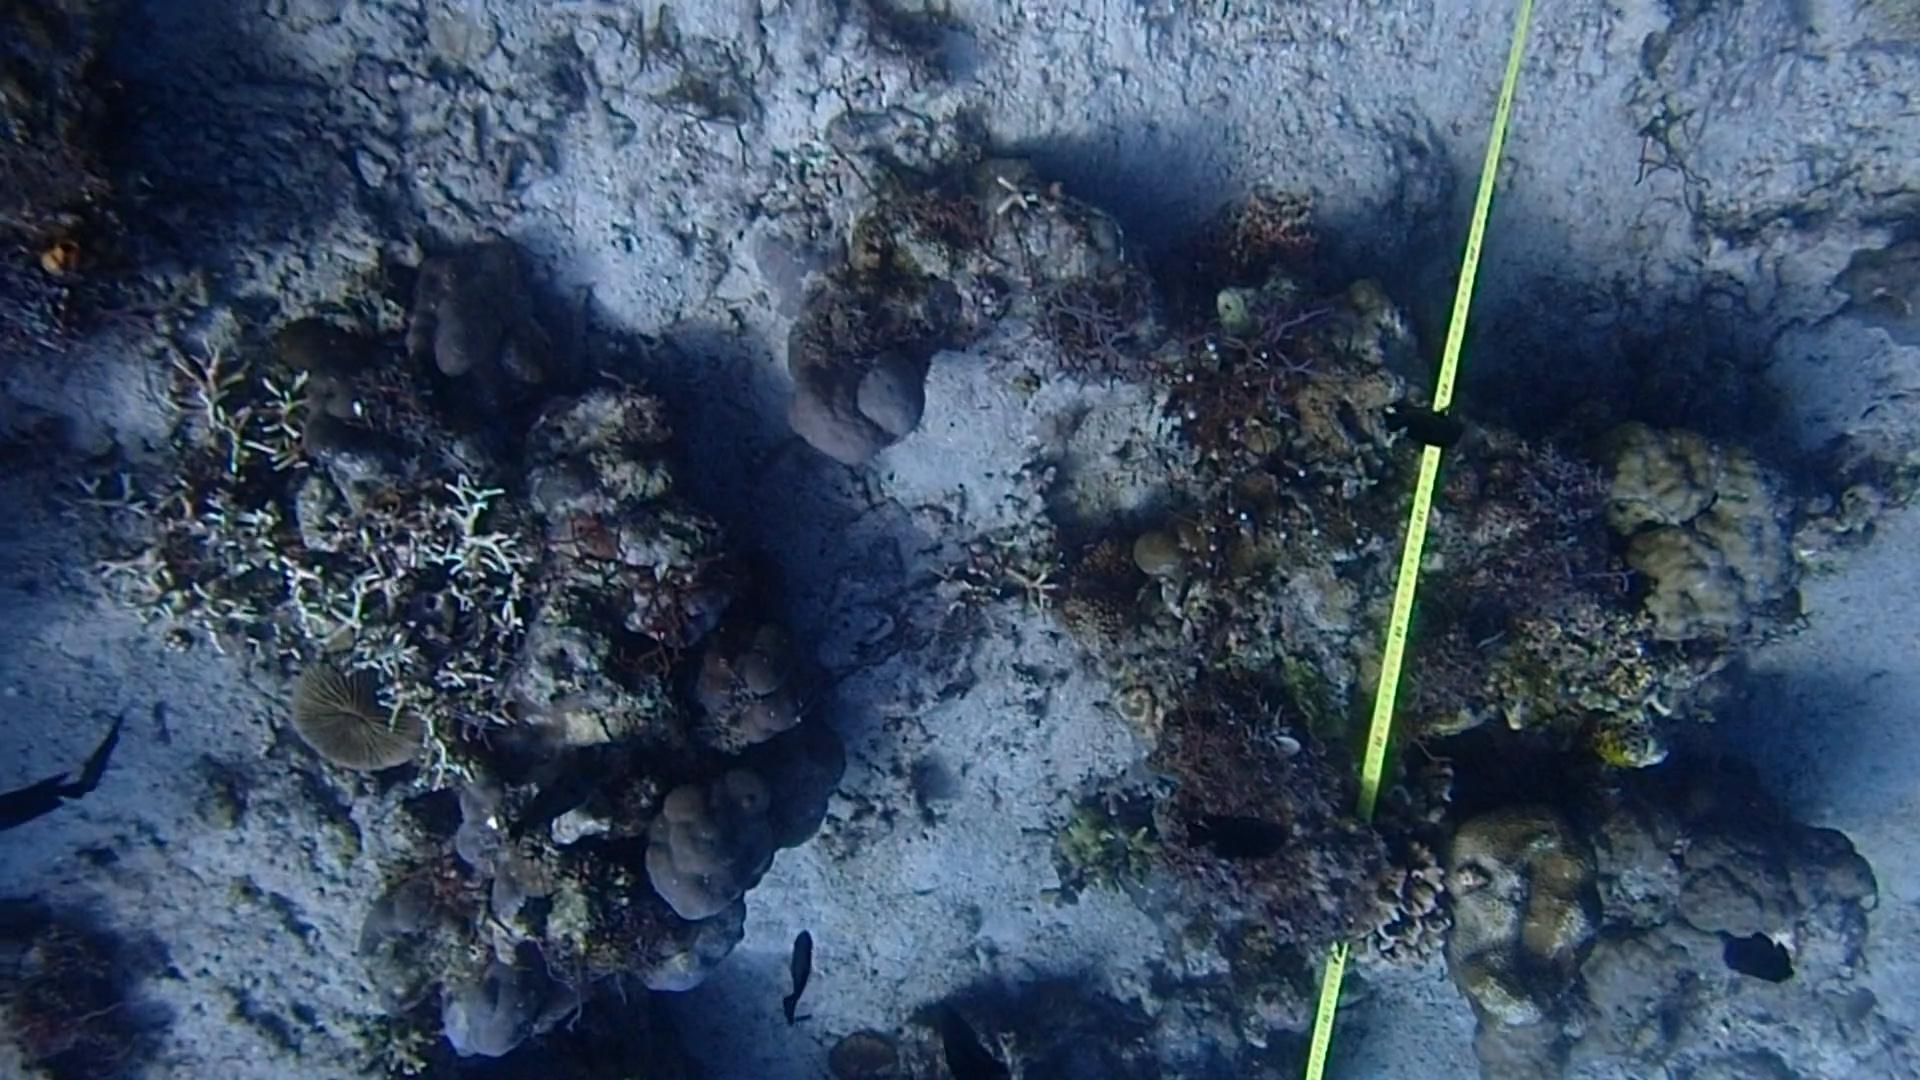Dark Fish: (496, 741, 618, 844), (1155, 794, 1300, 872), (1696, 916, 1800, 1000), (58, 704, 137, 812), (1370, 384, 1484, 459), (753, 924, 833, 1019), (0, 758, 70, 849)
